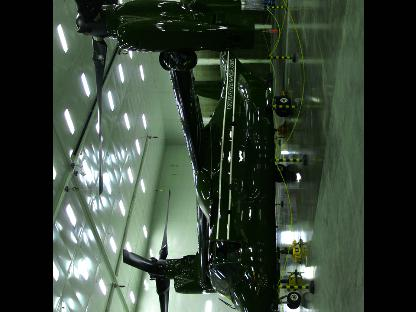Tornado: (53, 0, 302, 311)
